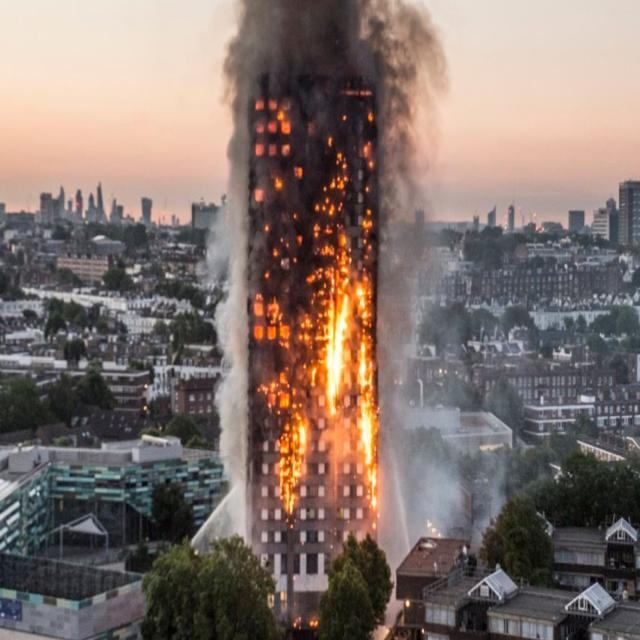Fire: (320, 291, 350, 416), (358, 344, 378, 505), (278, 416, 306, 518)
Smoke: (380, 82, 459, 528), (210, 2, 252, 542), (251, 0, 445, 82)
